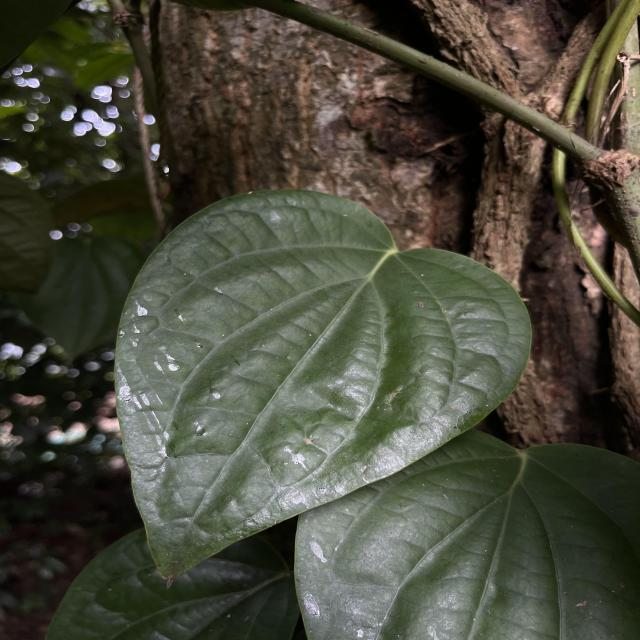Piper nigrum: (110, 185, 536, 589)
